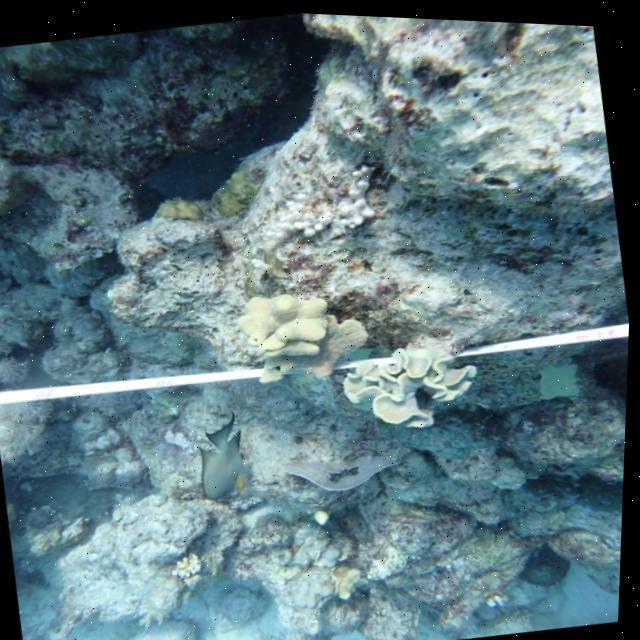Bleached Coral: (329, 310, 511, 444), (224, 265, 378, 385), (158, 534, 228, 587)
